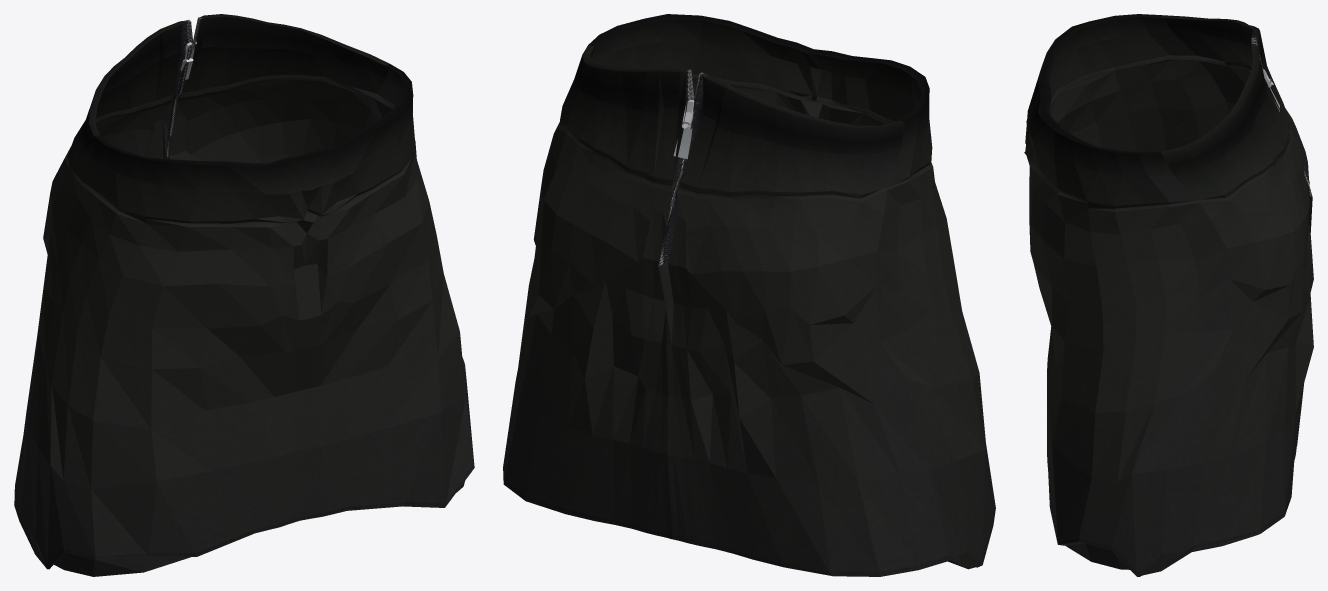
File: mhw_punkduck_black_mini_skirt.glb
3 views of the same model, side by side, from view 1: azimuth 30°, elevation 25°; view 2: azimuth 150°, elevation 25°; view 3: azimuth 270°, elevation 25° (orthographic). The views are drawn at different scales.
Parts seen in each view (by area): view 1: mhw_punkduck_black_mini_skirt; view 2: mhw_punkduck_black_mini_skirt; view 3: mhw_punkduck_black_mini_skirt.
Boxes of the visible parts, bbox=[...] form: mhw_punkduck_black_mini_skirt: bbox=[14, 14, 474, 576]; mhw_punkduck_black_mini_skirt: bbox=[503, 14, 995, 576]; mhw_punkduck_black_mini_skirt: bbox=[1024, 14, 1313, 576].
Bounding box in the file's own units: 0.4434 × 0.4649 × 0.2775.
Materials: 1 (1 with a texture image).
